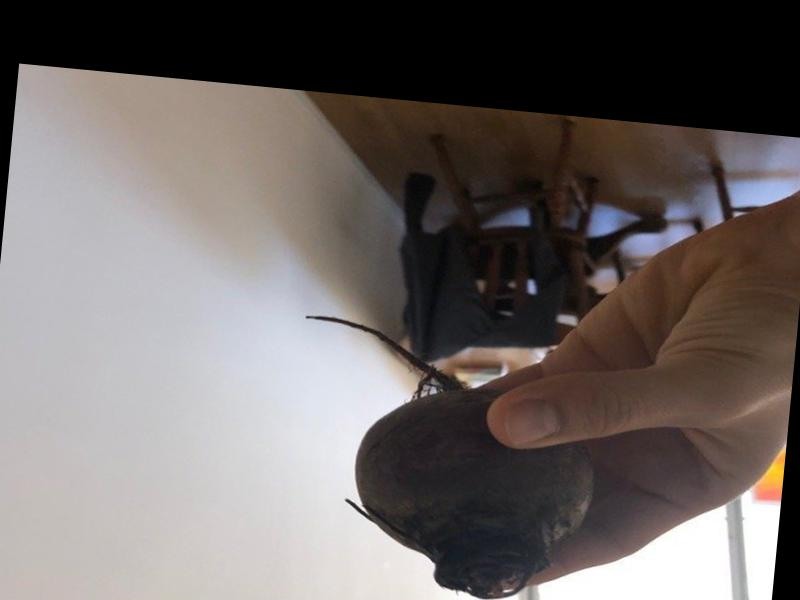Beet: (278, 315, 606, 600)
